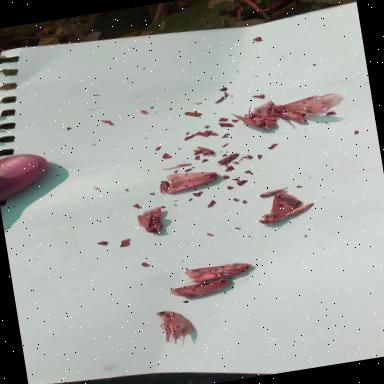abw: (265, 87, 349, 131), (252, 184, 320, 227), (224, 96, 288, 140), (152, 304, 200, 350), (182, 258, 258, 284), (167, 276, 235, 302), (164, 166, 222, 194), (132, 206, 167, 236), (182, 266, 191, 271)
pbw: (213, 150, 242, 166), (190, 142, 216, 158), (158, 178, 172, 195)
